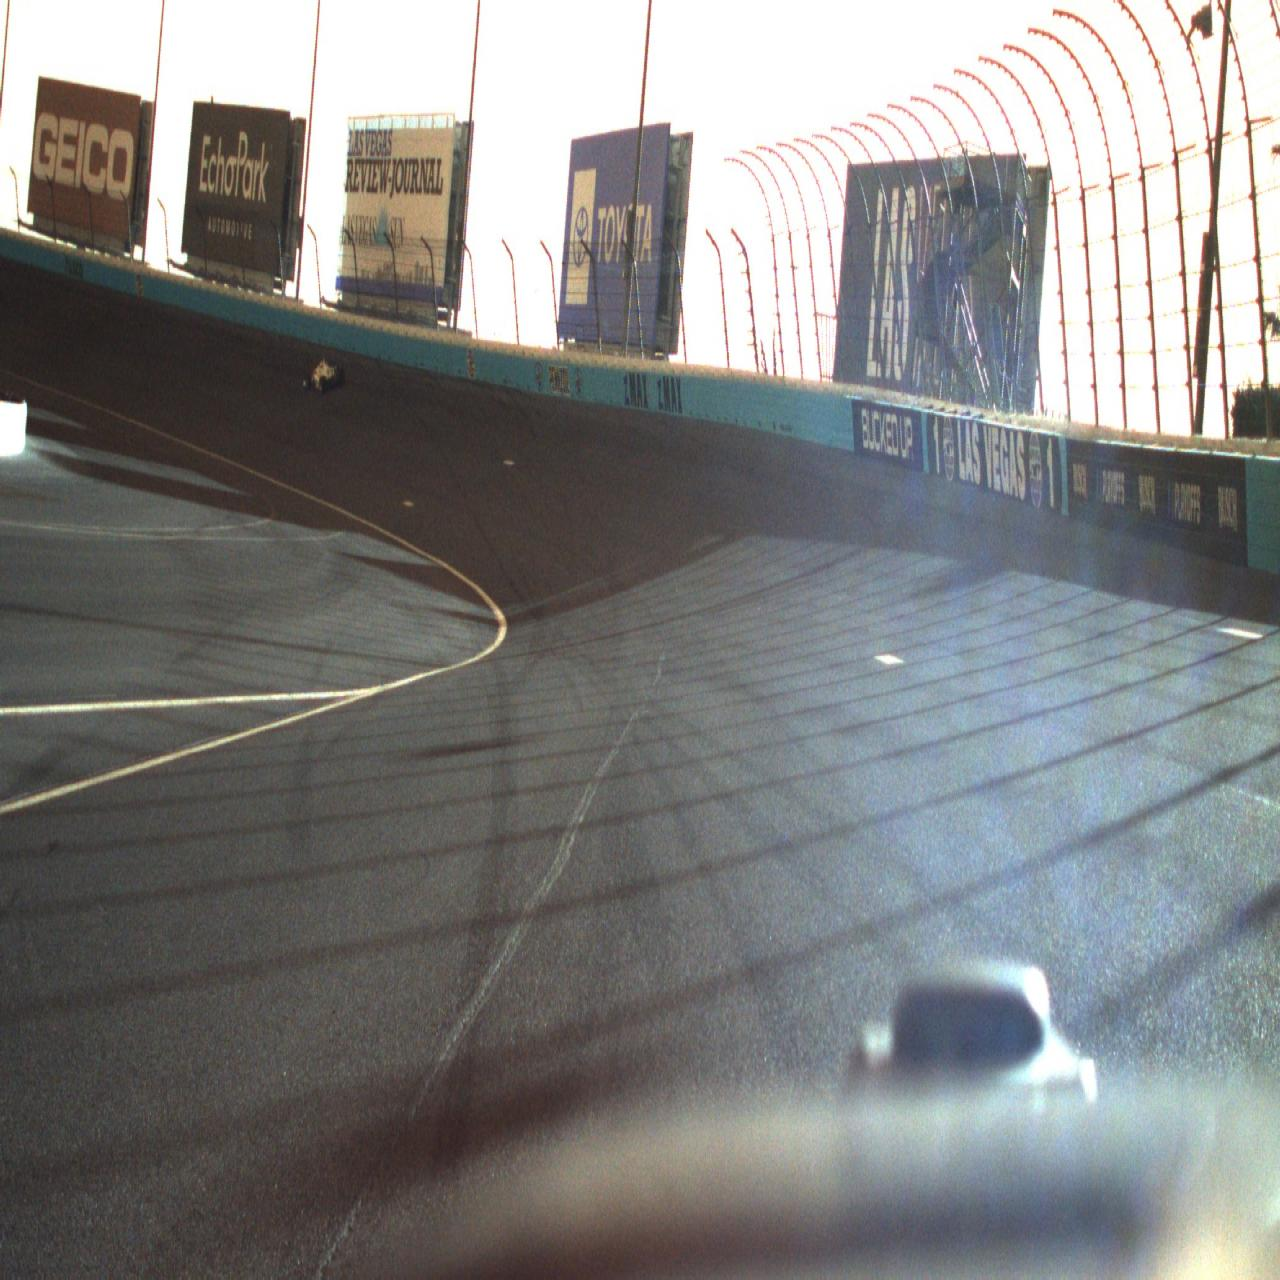AV: (302, 354, 345, 394)
Wheel: (319, 376, 327, 393), (305, 373, 311, 389), (339, 366, 343, 384)
